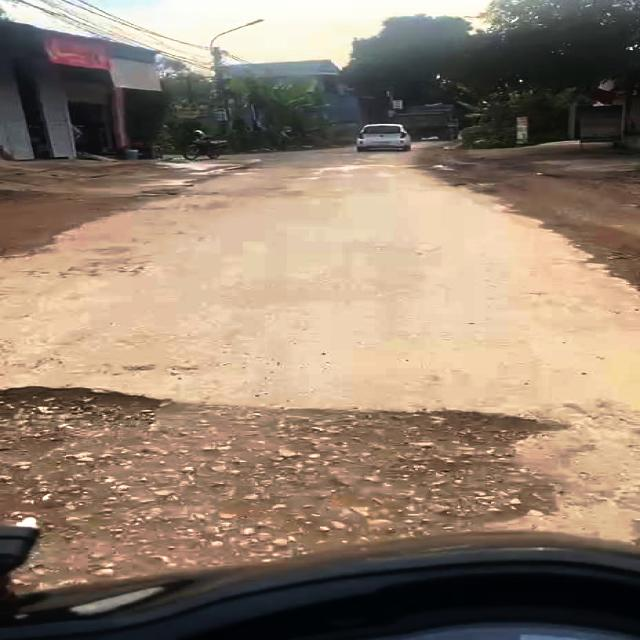pothole: (0, 374, 570, 603)
